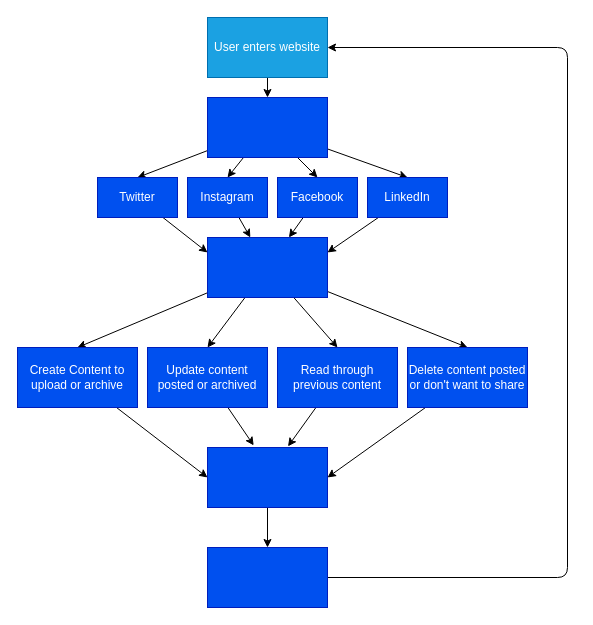
This 593x625 diagram has some shape labels left out. Here are the shapes that lost their labels. From the top down, the centre of each, then its label:
At (267,127): "Prompts user to choose a social media app".
At (267,267): "Prompts user to choose an action".
At (267,477): "Prompt the user to confirm the action taken".
At (267,577): "Completes user's action".
